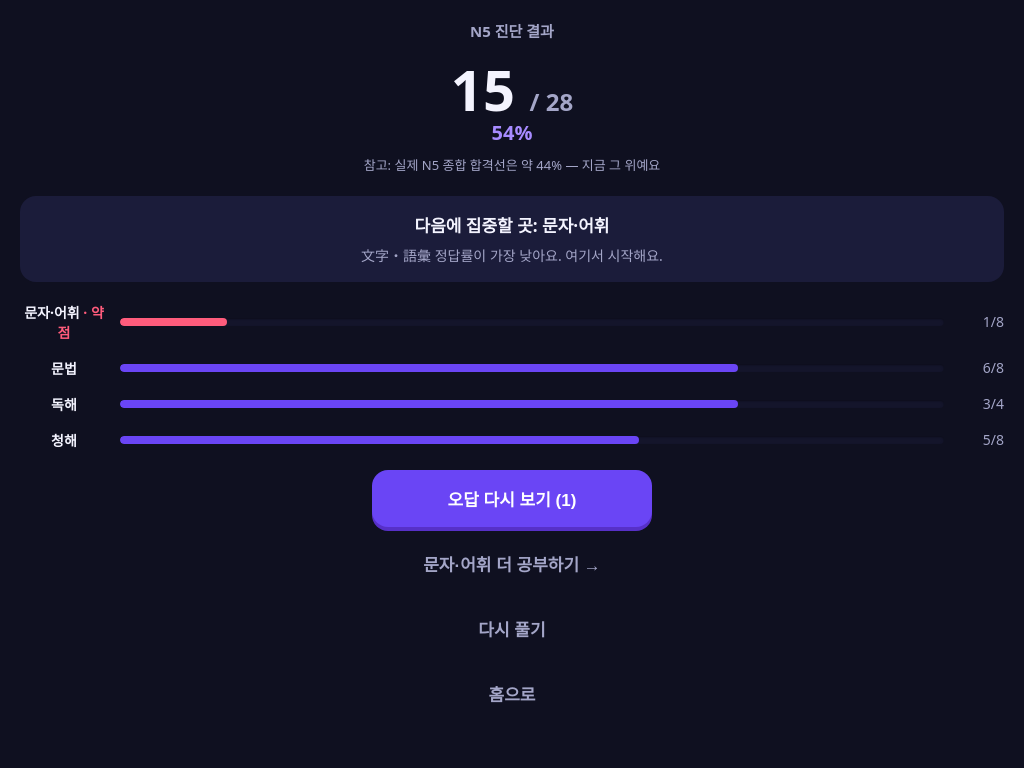
Test: JlptReport › marks an unanswered item as 미응답 in review
Click the button "오답 다시 보기 (1)": (512, 498) x1=372 y1=470 x2=652 y2=526
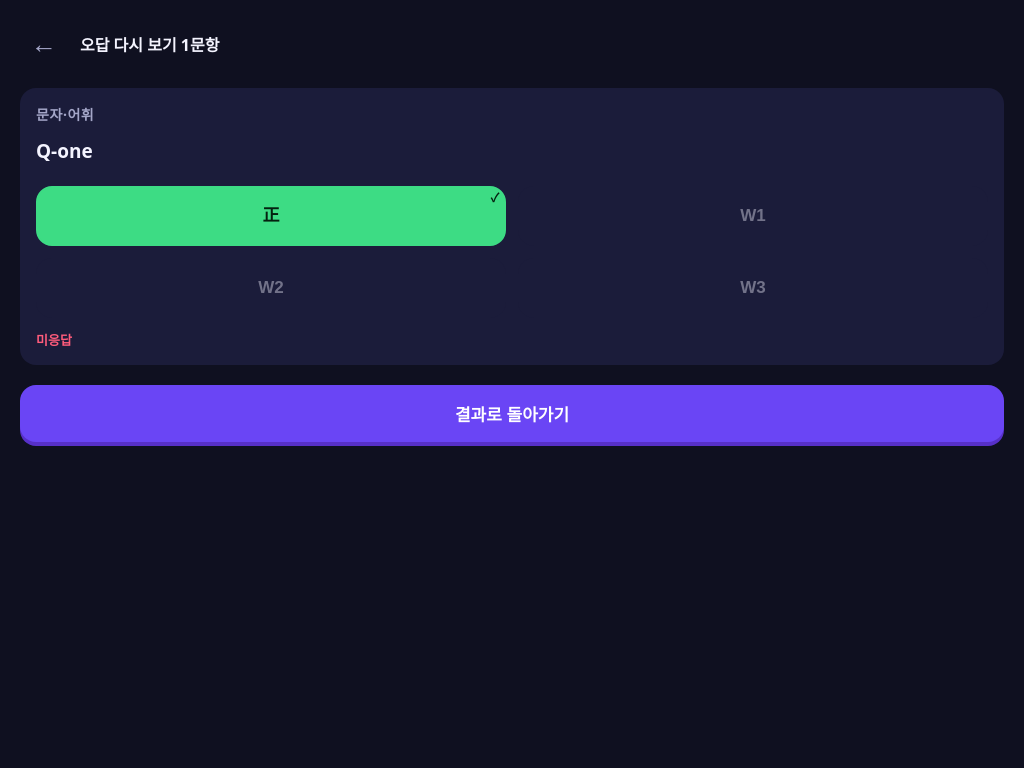
Result: the text "미응답" is shown at x1=36 y1=331 x2=72 y2=349
